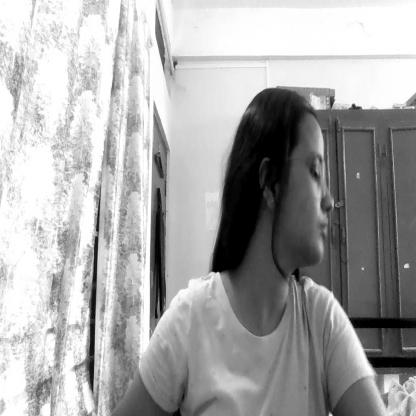Distracted: (222, 84, 340, 270)
